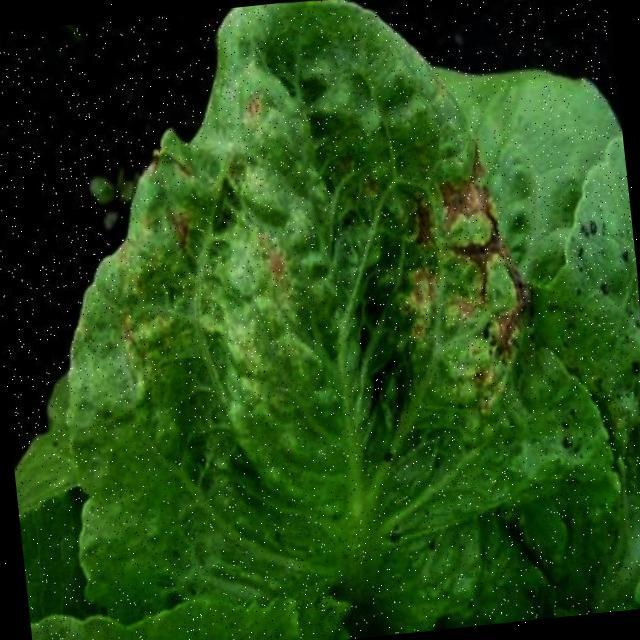Healthy: (309, 84, 579, 468)
